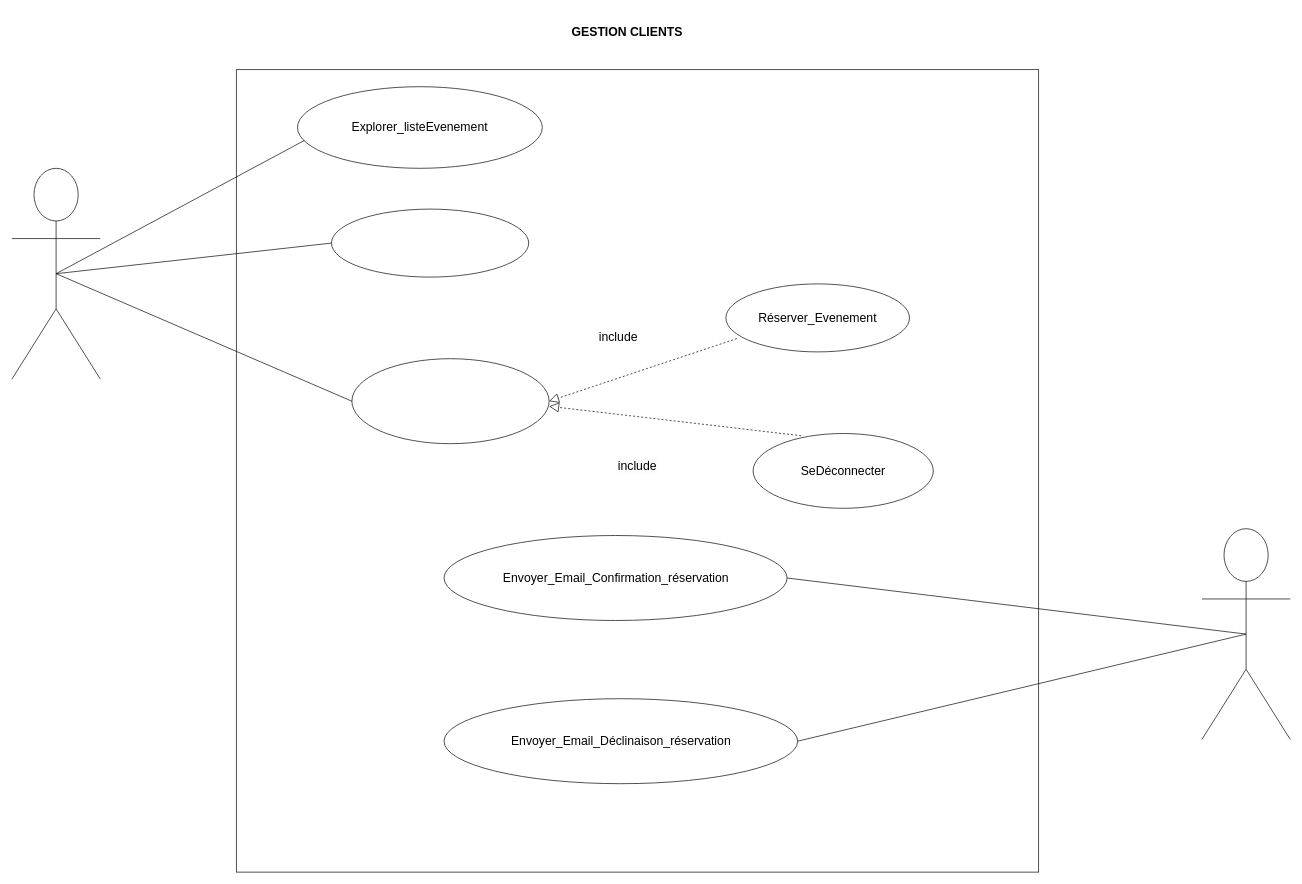
This 1302x884 diagram has some shape labels left out. Each missing label, with the box of its shape:
Clients: (11, 168, 100, 379)
S'Authentifier: (351, 358, 549, 444)
S'inscrire_Evenement: (331, 208, 529, 277)
Systeme: (1201, 528, 1290, 740)
